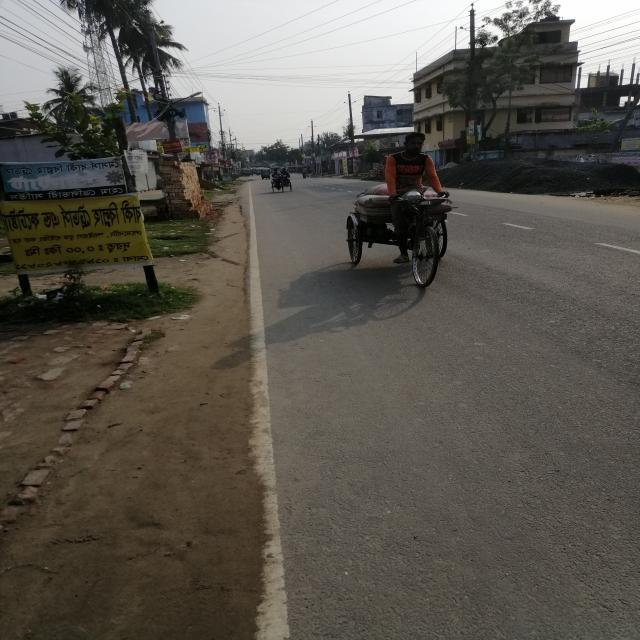Rickshaw: (261, 150, 302, 207)
Van: (329, 176, 513, 317)
